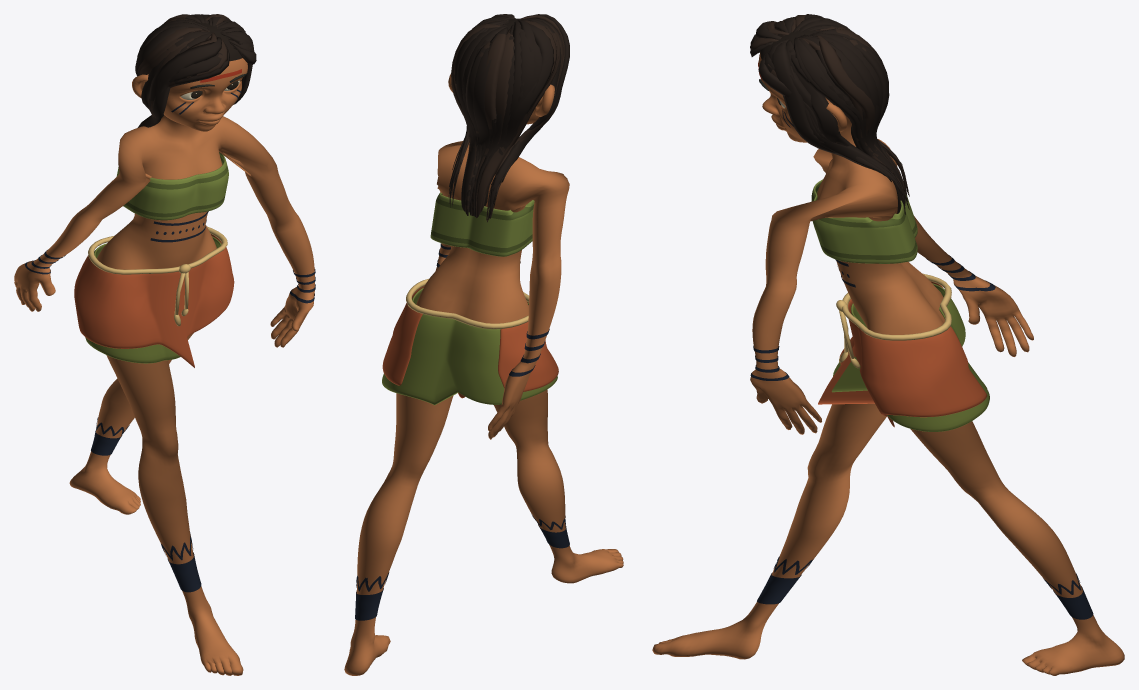
Rendered from mulher_01.glb.
3 views of the same model, side by side, from view 1: azimuth 30°, elevation 25°; view 2: azimuth 150°, elevation 25°; view 3: azimuth 270°, elevation 25° (orthographic). The views are drawn at different scales.
Visible parts, largest first — view 1: mulher_01_corpo; view 2: mulher_01_corpo; view 3: mulher_01_corpo.
Boxes of the visible parts, bbox=[...] form: mulher_01_corpo: bbox=[14, 14, 315, 675]; mulher_01_corpo: bbox=[344, 14, 623, 675]; mulher_01_corpo: bbox=[652, 14, 1124, 675].
Bounding box in the file's own units: 0.539 × 1.61 × 1.07.
